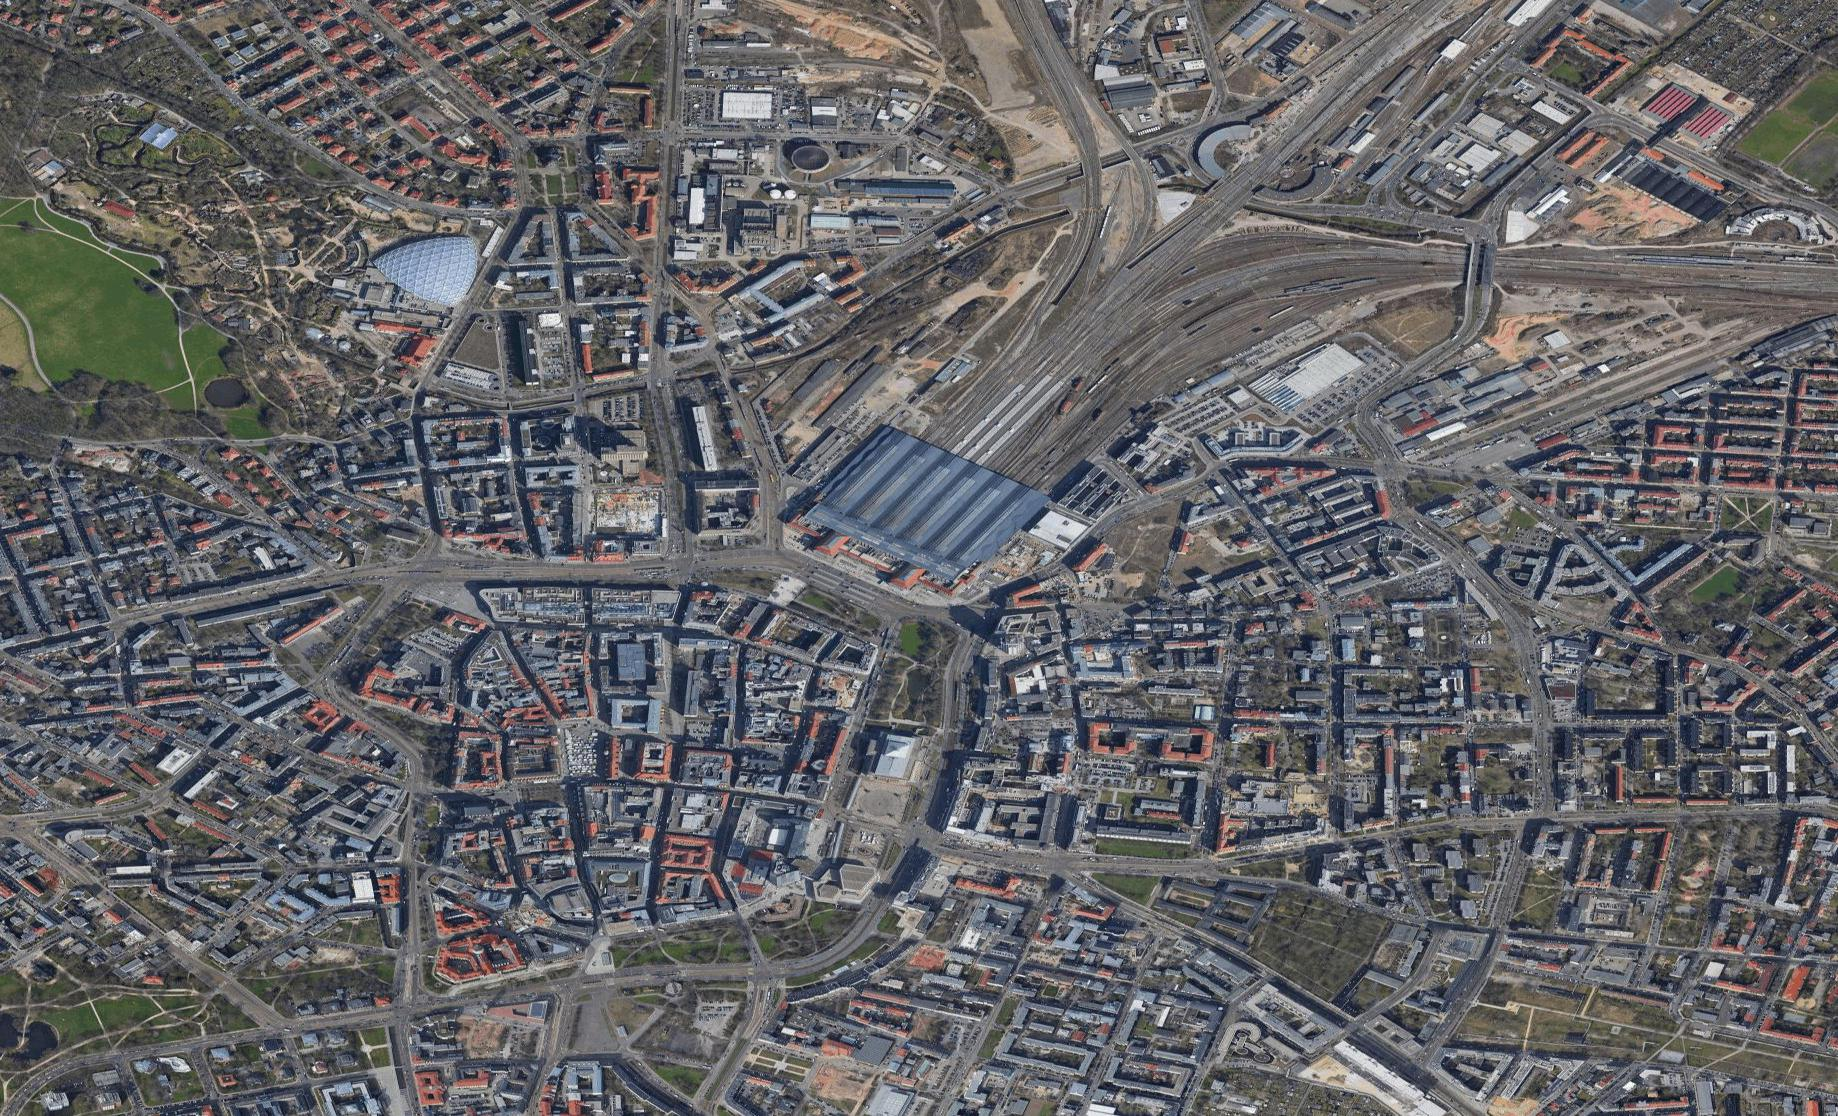train_station: (780, 408, 1092, 618)
